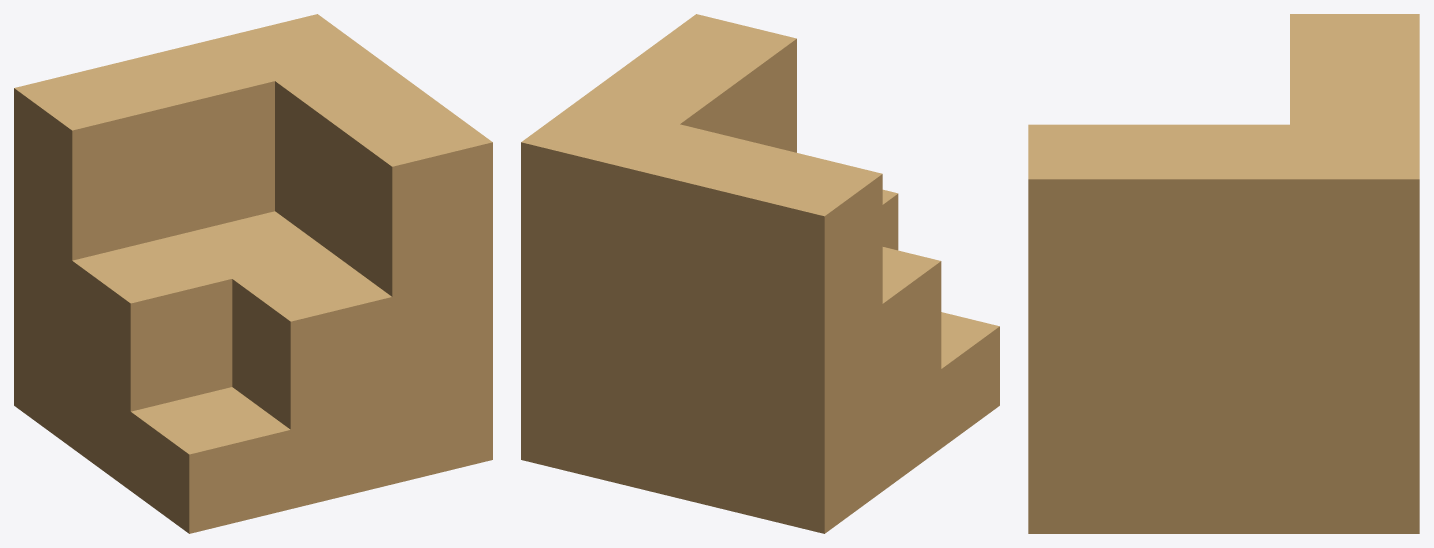
Rendered from ST_Env_BackgroundEdge_02.fbx.
3 views of the same model, side by side, from view 1: azimuth 30°, elevation 25°; view 2: azimuth 150°, elevation 25°; view 3: azimuth 270°, elevation 25° (orthographic). The views are drawn at different scales.
Visible parts, largest first — view 1: ST_Env_BackgroundEdge_02; view 2: ST_Env_BackgroundEdge_02; view 3: ST_Env_BackgroundEdge_02.
Part boxes in pixels (bbox=[...]): ST_Env_BackgroundEdge_02: bbox=[14, 14, 492, 533]; ST_Env_BackgroundEdge_02: bbox=[521, 14, 999, 533]; ST_Env_BackgroundEdge_02: bbox=[1028, 14, 1419, 533].
Size of the model in its own units: 4 by 4 by 4.
